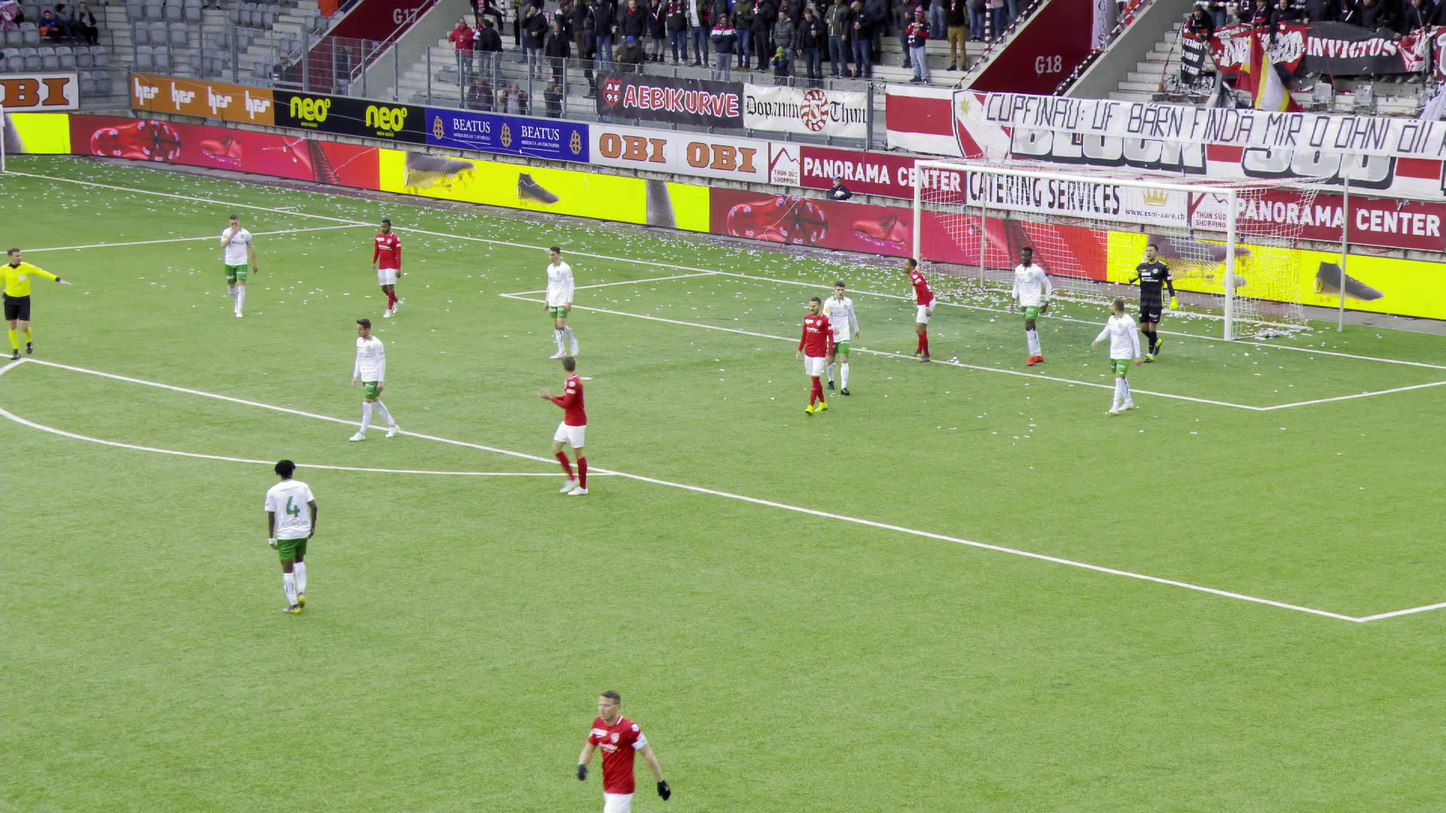player: (580, 685, 663, 812), (264, 460, 324, 617), (541, 355, 596, 495), (345, 317, 399, 442), (1123, 242, 1177, 364), (1091, 299, 1140, 415), (1008, 245, 1054, 367), (537, 245, 584, 359), (820, 280, 862, 396), (795, 295, 836, 413), (220, 213, 261, 318), (902, 257, 938, 363), (369, 215, 404, 316)
referee: (0, 247, 73, 360)
